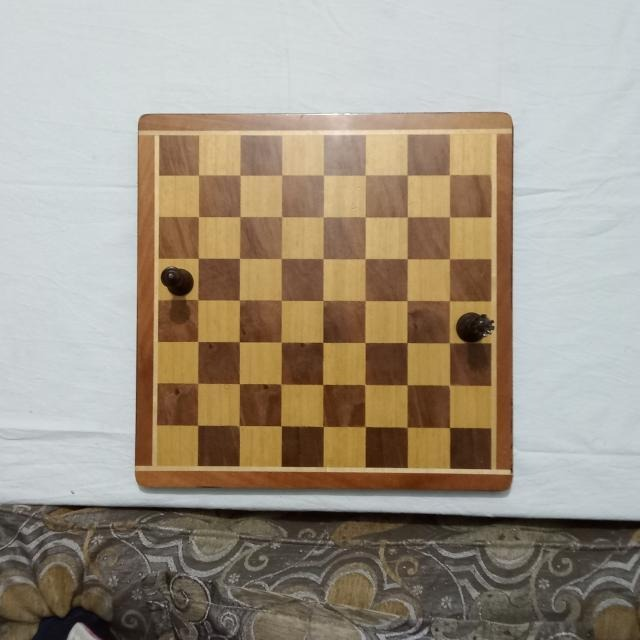black-king: (158, 264, 194, 296)
black-queen: (456, 311, 496, 345)
